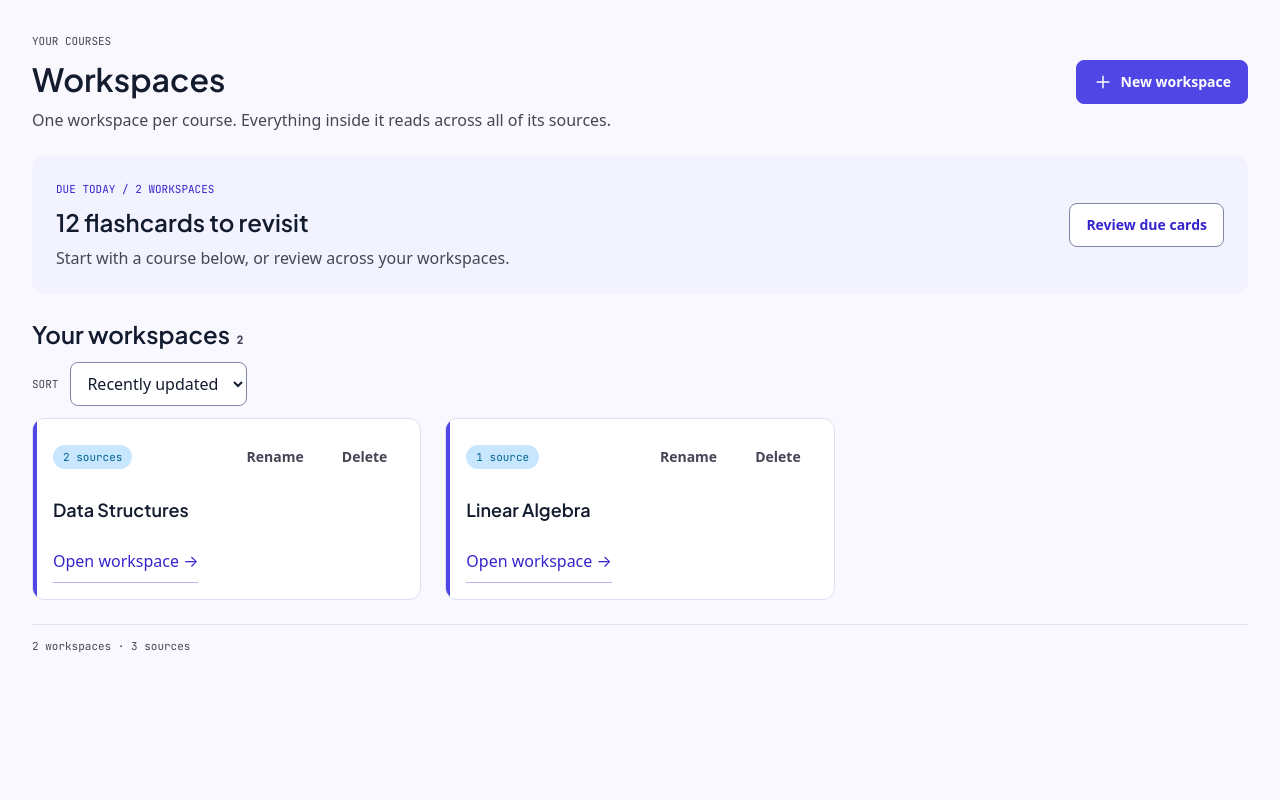
the workspace list › renames a workspace in place
expect the list item "Data Structures" is shown: met, box [32, 418, 421, 600]
Click the button "Rename" next to "2 sources". click: (275,457)
box: [230, 435, 321, 479]
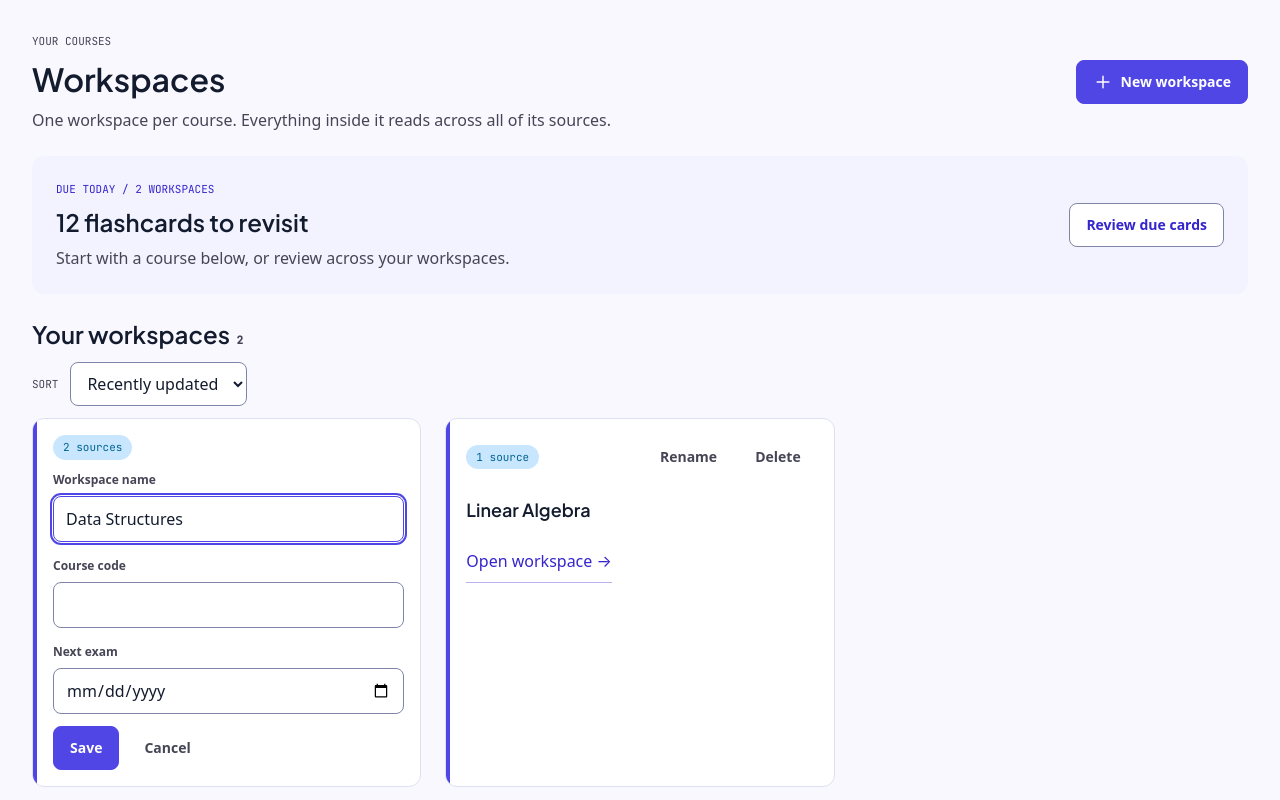
Replace the text in the field labelled "Workspace name" with "Algorithms and data structures". click: (229,518)
box: [53, 496, 404, 542]
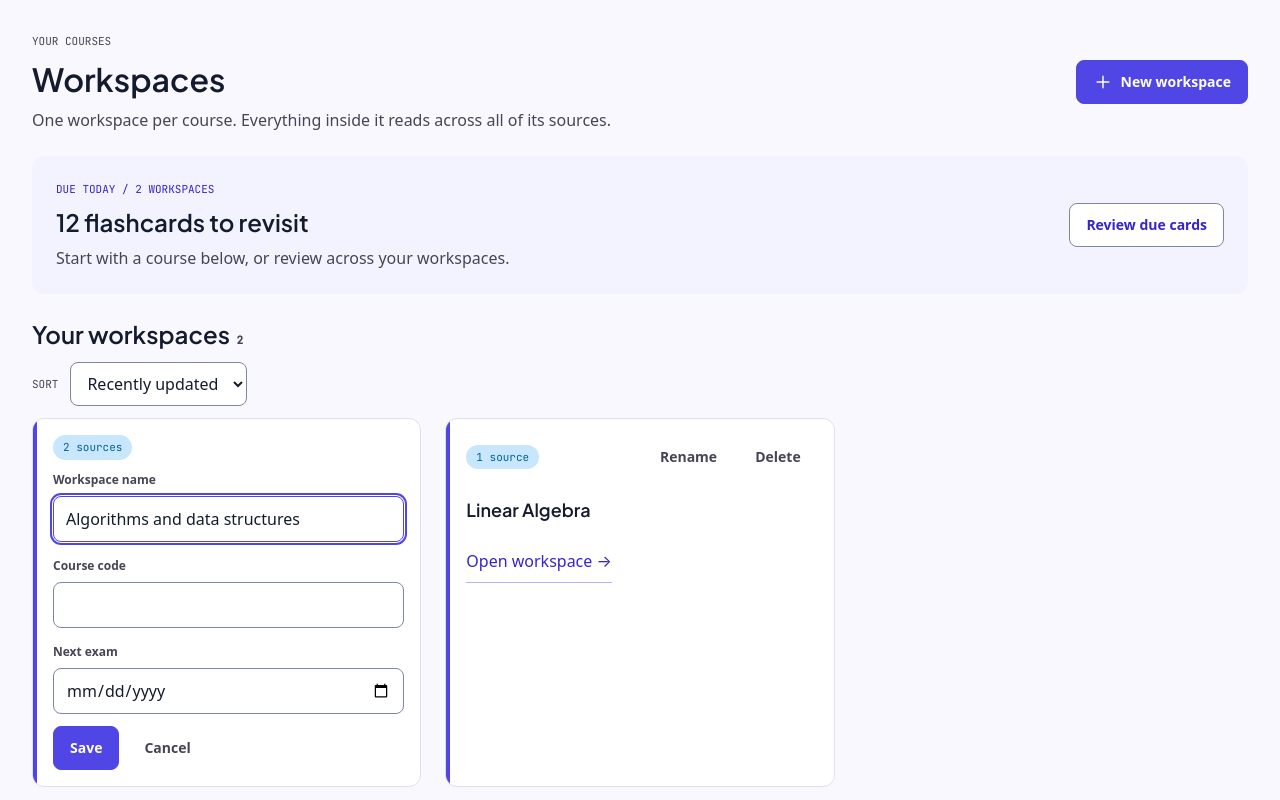
Click the button "Save". click: (86,748)
box: [53, 726, 119, 770]
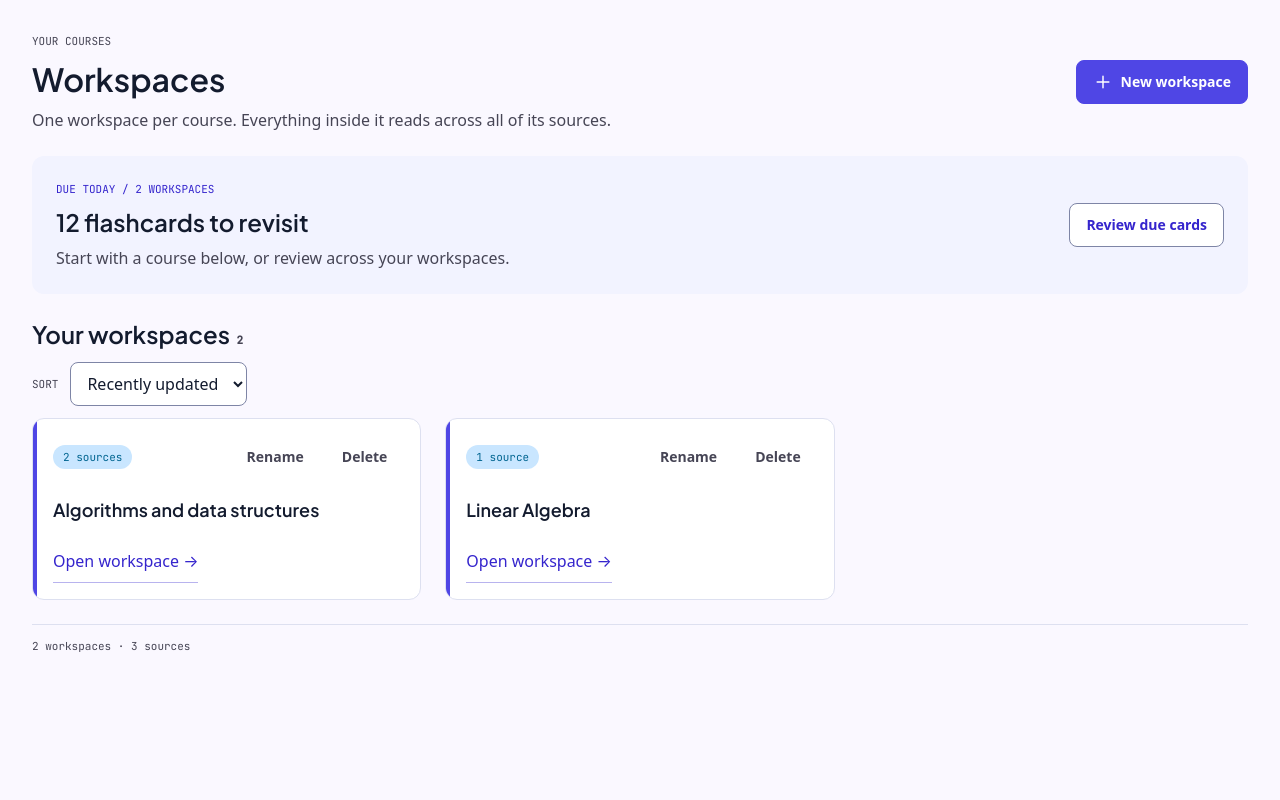
expect the link "Algorithms and data structures" is shown: met, box [53, 498, 319, 520]
